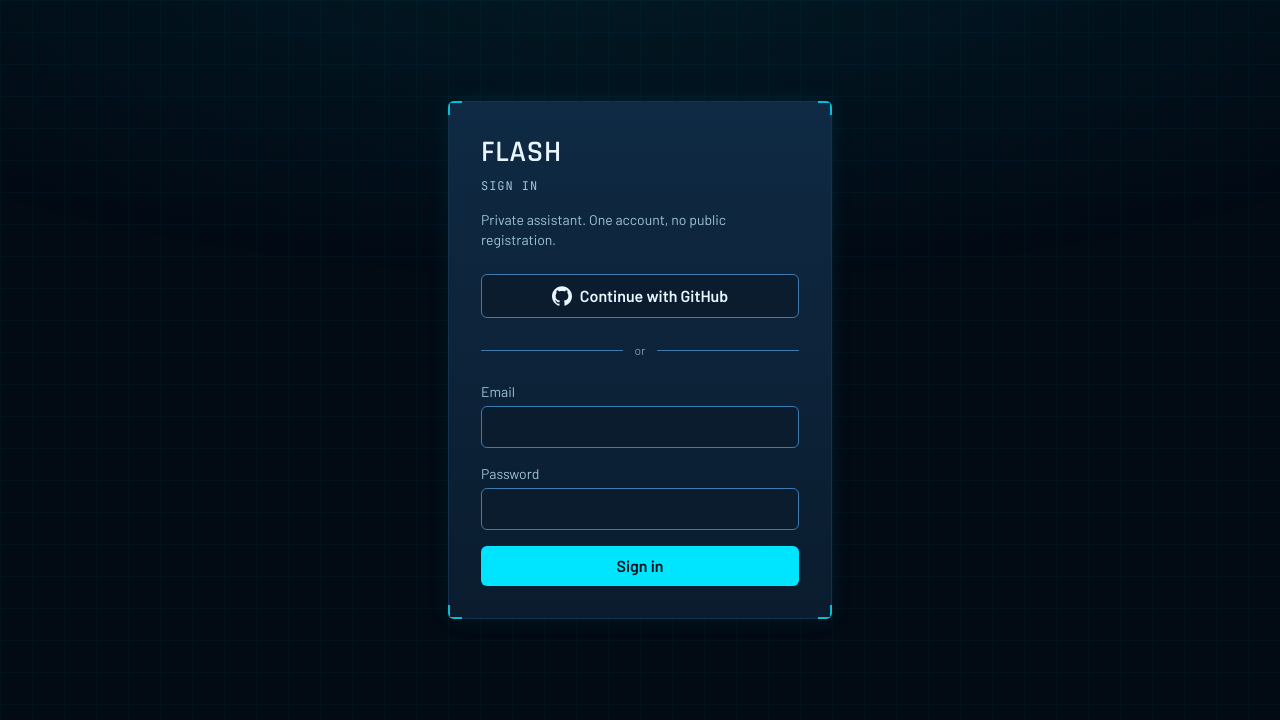
Test: GitHub sign-in button › shows a generic error on failure and never exposes provider details
Click the button "Continue with GitHub" at (640, 296), box [481,274,799,318]
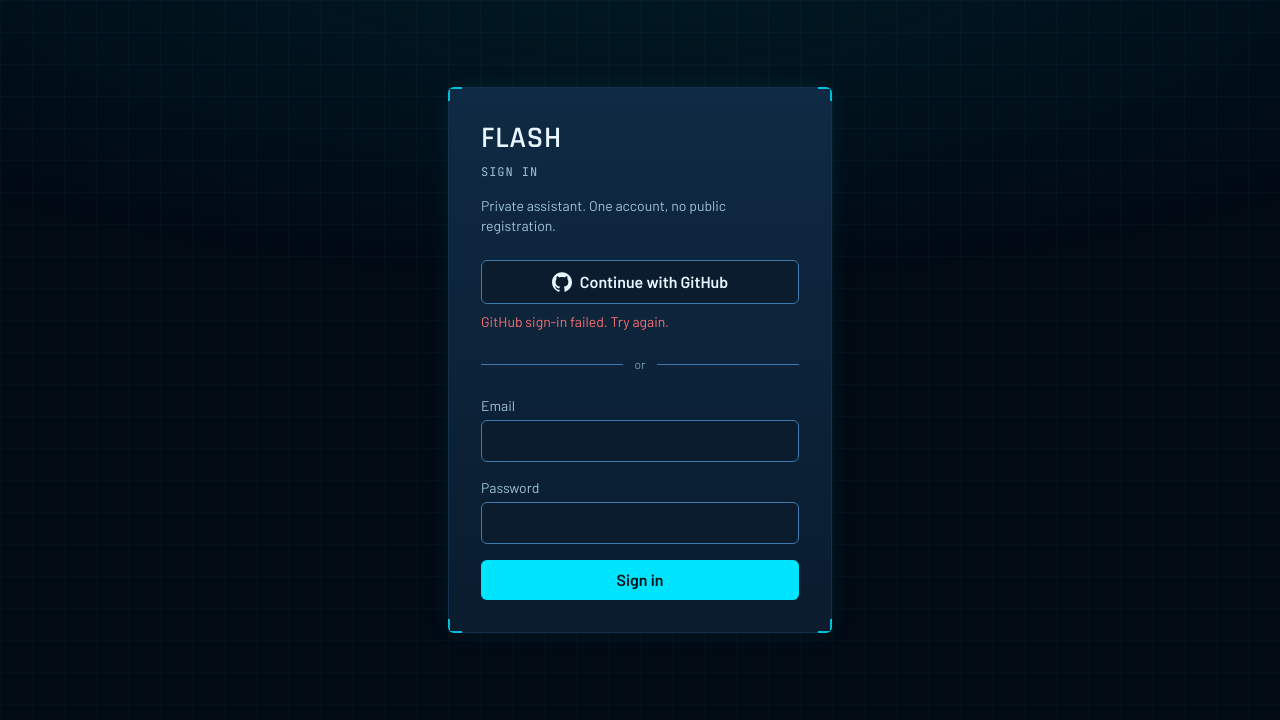
expect the message does not show "provider is not enabled": met, box [481,313,669,330]
expect the message reads "GitHub sign-in failed. Try again.": met, box [481,313,669,330]
